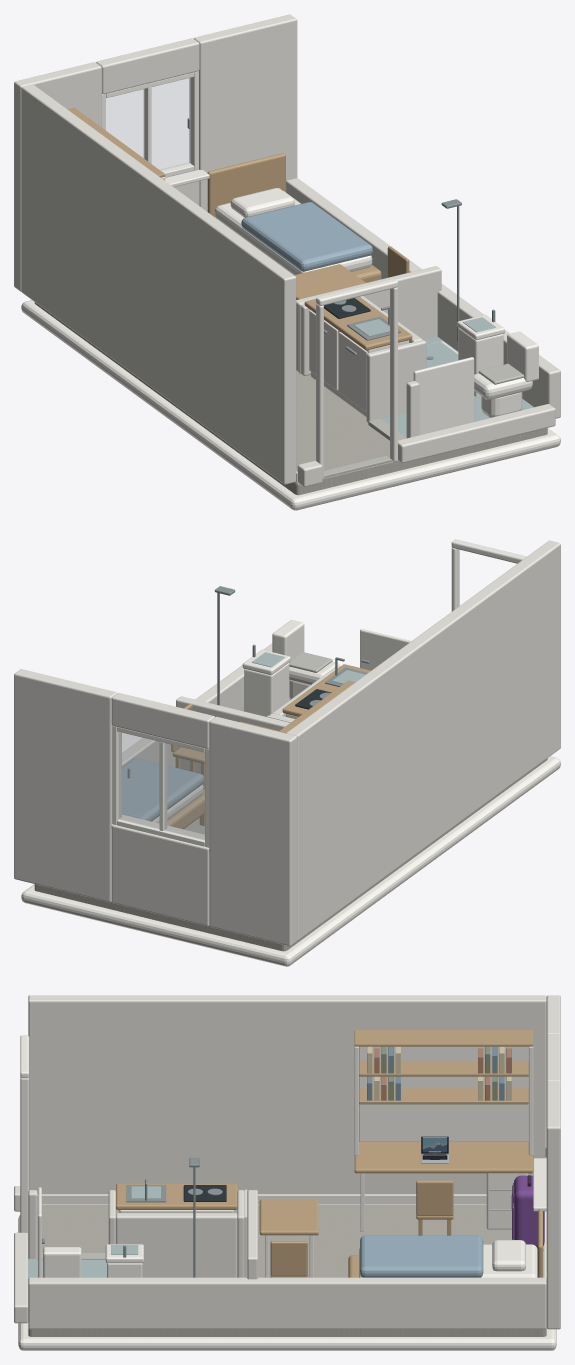
The model's file is room-02.glb.
3 renders of one model, top to bottom at view 1: azimuth 30°, elevation 25°; view 2: azimuth 150°, elevation 25°; view 3: azimuth 270°, elevation 25°, orthographic.
Parts seen in each view (by area): view 1: Architecture, Bed, Bathroom, Window, Kitchen, Entrance, Dining, Desk; view 2: Architecture, Window, Bathroom, Bed, Kitchen, Entrance, Dining, Desk; view 3: Architecture, Desk, Bed, Dining, Kitchen, Bathroom, Entrance, Luggage, Desk chair, Laptop, Window.
Part boxes in pixels (box(x1,y1,x2,y2)): Architecture: box(14, 14, 560, 510); Bed: box(207, 153, 381, 282); Bathroom: box(413, 199, 538, 435); Window: box(102, 71, 209, 186); Kitchen: box(304, 297, 412, 417); Entrance: box(316, 279, 397, 479); Dining: box(294, 246, 409, 299); Desk: box(67, 107, 165, 180); Architecture: box(14, 540, 560, 966); Window: box(111, 726, 209, 851); Bathroom: box(214, 586, 411, 716); Bed: box(122, 758, 204, 829); Kitchen: box(282, 657, 370, 718); Entrance: box(451, 539, 526, 611); Dining: box(171, 703, 278, 789); Desk: box(279, 680, 355, 733); Architecture: box(14, 995, 560, 1350); Desk: box(354, 1030, 533, 1231); Bed: box(348, 1209, 542, 1277); Dining: box(259, 1199, 318, 1277); Kitchen: box(116, 1179, 237, 1212); Bathroom: box(38, 1157, 199, 1277); Entrance: box(20, 1035, 29, 1233); Luggage: box(511, 1175, 544, 1250); Desk chair: box(416, 1180, 453, 1235); Laptop: box(421, 1136, 448, 1163); Window: box(533, 1147, 546, 1211).
Bounding box in the file's own units: 3.52 × 2.8 × 6.12.
Materials: 30 (1 with a texture image).
